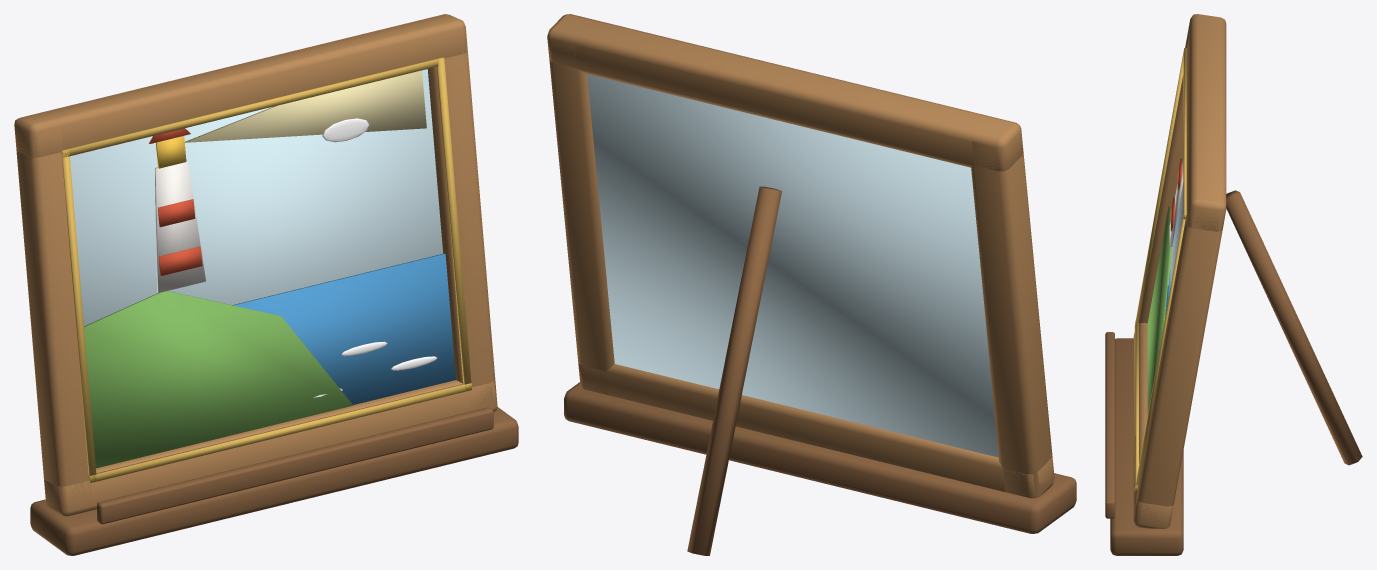
The model's file is art-cape-lighthouse.glb.
3 views of the same model, side by side, from view 1: azimuth 30°, elevation 25°; view 2: azimuth 150°, elevation 25°; view 3: azimuth 270°, elevation 25° (orthographic). The views are drawn at different scales.
Parts seen in each view (by area): view 1: art; view 2: art; view 3: art.
Boxes of the visible parts, x1,y1,x2,y2 form: art: (14, 14, 518, 555); art: (547, 14, 1076, 555); art: (1105, 14, 1362, 555).
Size of the model in its own units: 0.57 by 0.4826 by 0.3151.
